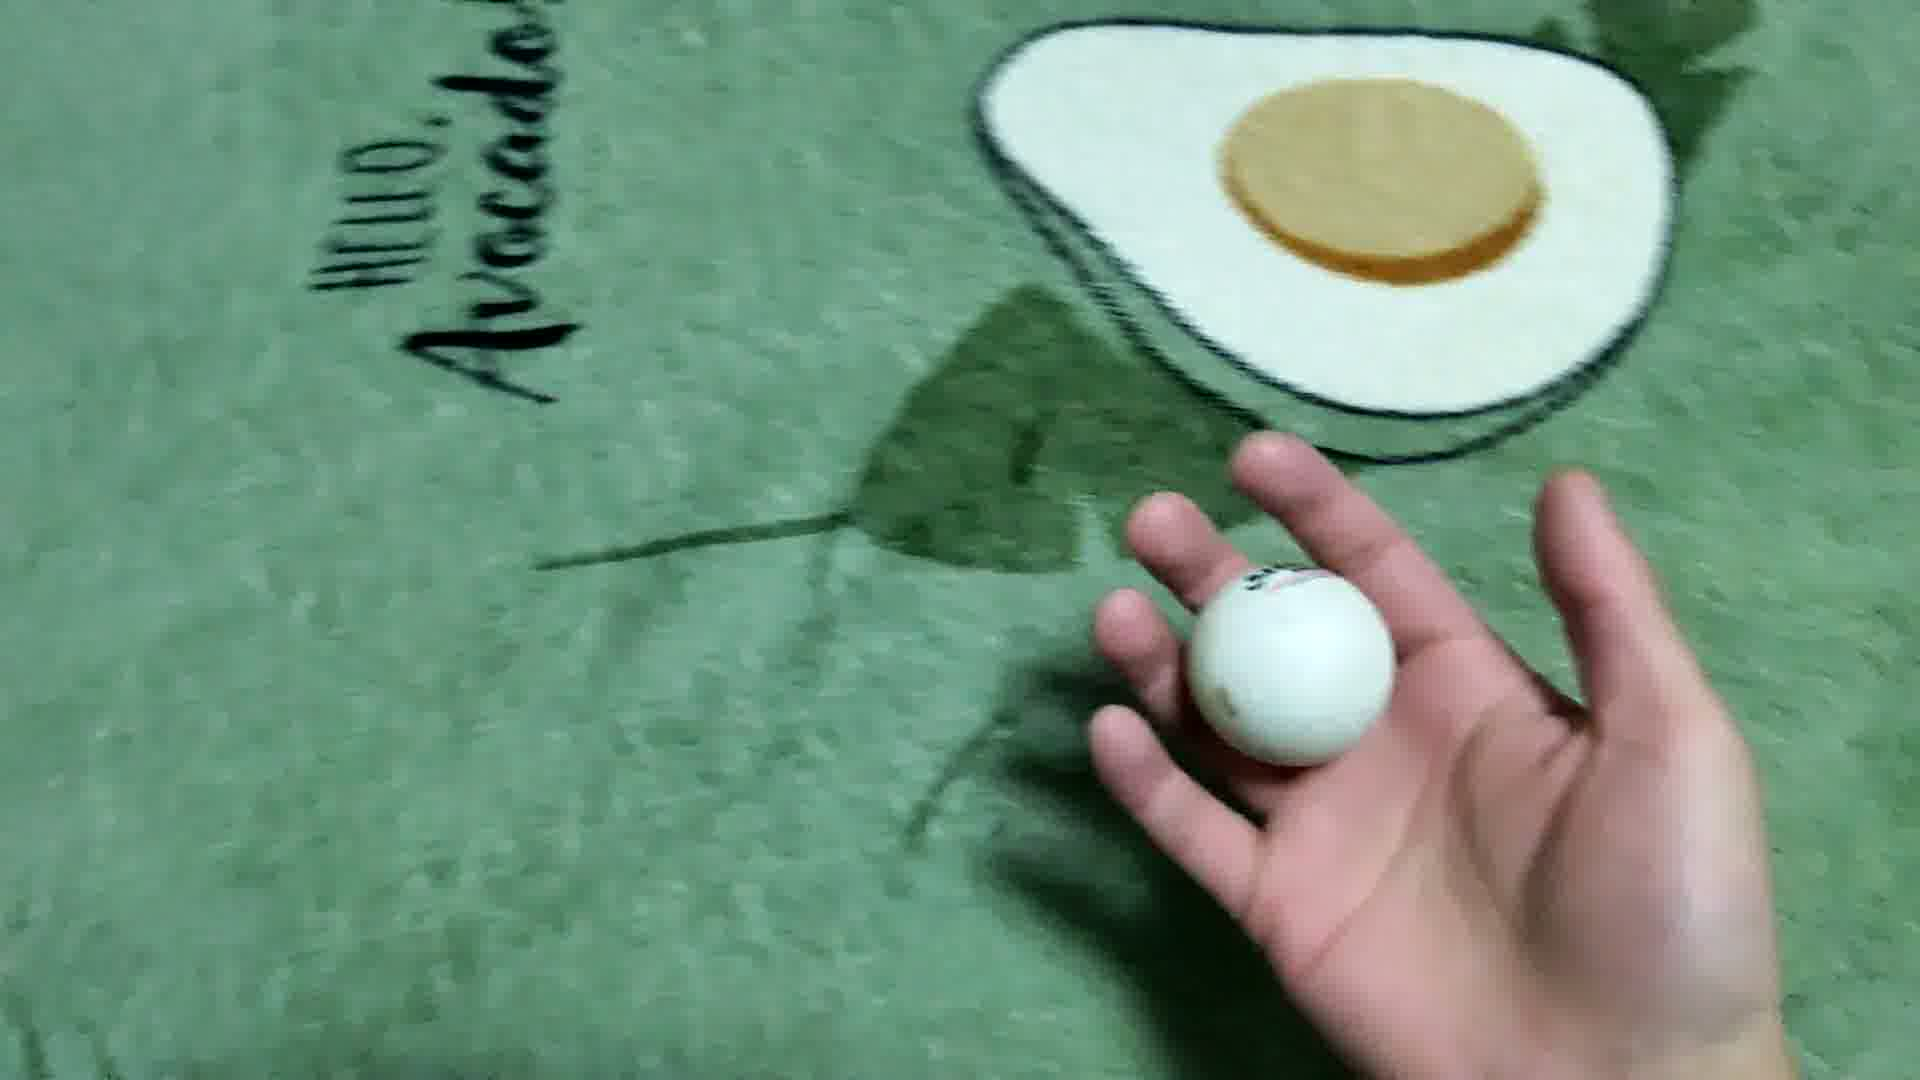Ball: (1183, 563, 1393, 771)
